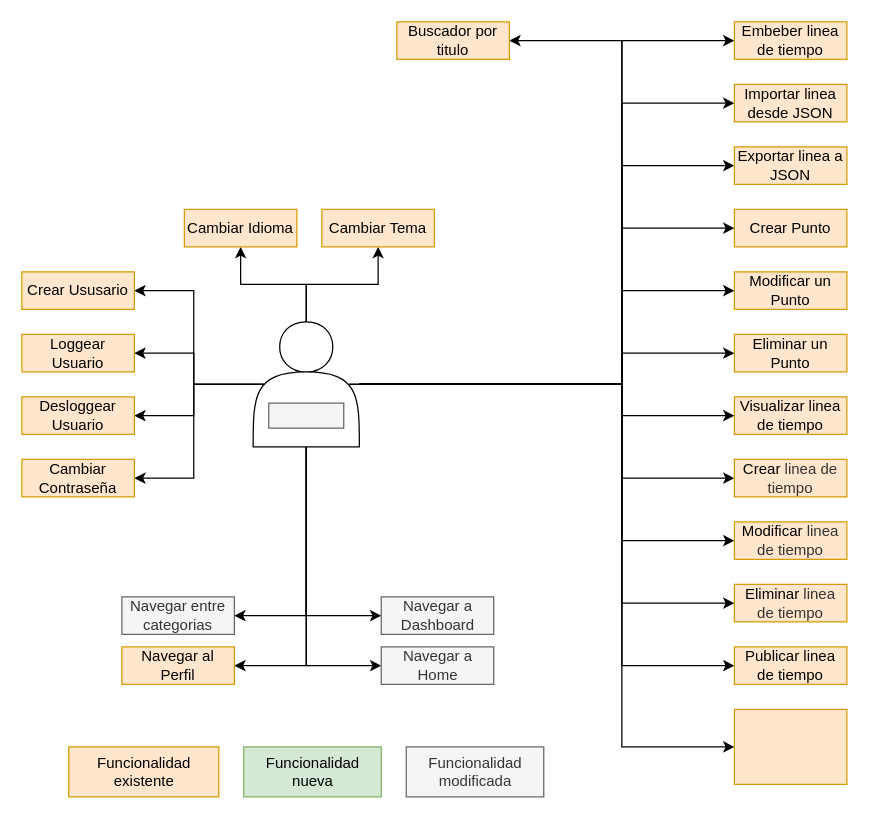
This 869x819 diagram has some shape labels left out. The centre of each missing label's shape, as x and y in pixels:
"Anular publicación de linea de tiempo" belongs at (790,746).
"Usuario" belongs at (306,415).
